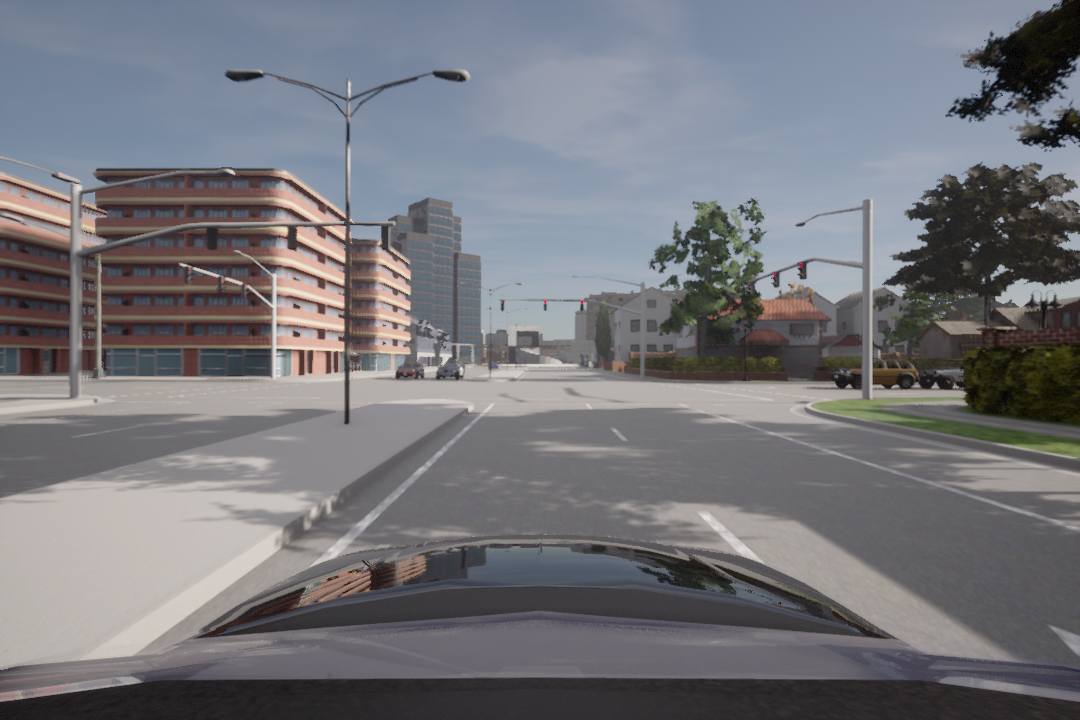TrafficLight: (181, 261, 194, 284), (797, 259, 810, 281), (213, 272, 226, 294), (769, 269, 781, 287), (744, 279, 756, 297), (240, 281, 250, 301), (578, 298, 586, 315), (541, 297, 547, 311), (498, 297, 503, 311)
